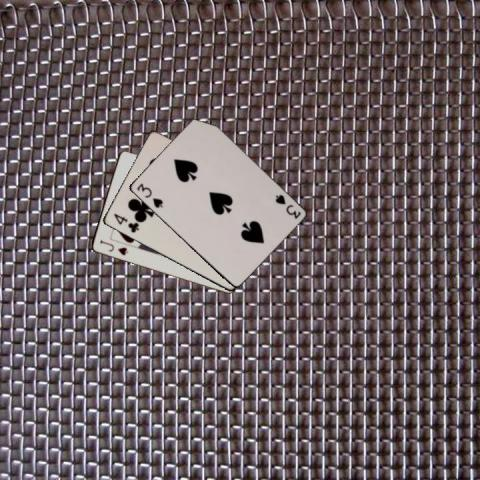3s: (272, 191, 302, 221), (133, 181, 164, 209)
4c: (111, 211, 140, 234)
Js: (97, 236, 129, 256)
